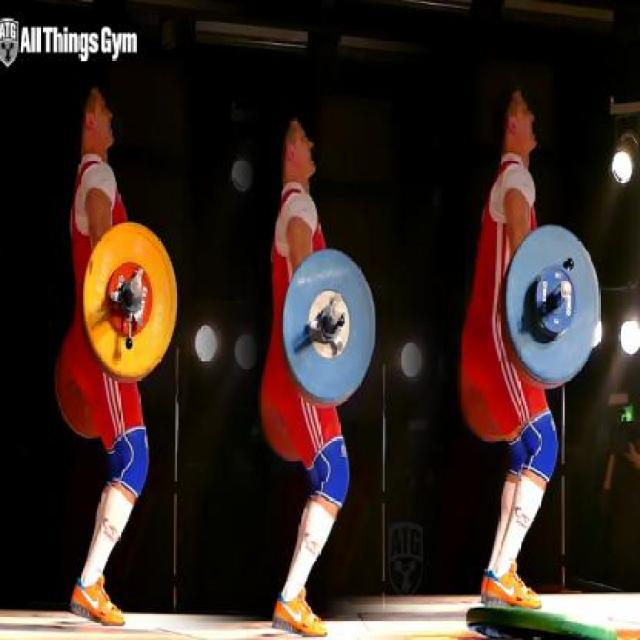barbell: (498, 218, 604, 390), (81, 219, 187, 382), (279, 246, 381, 409)
